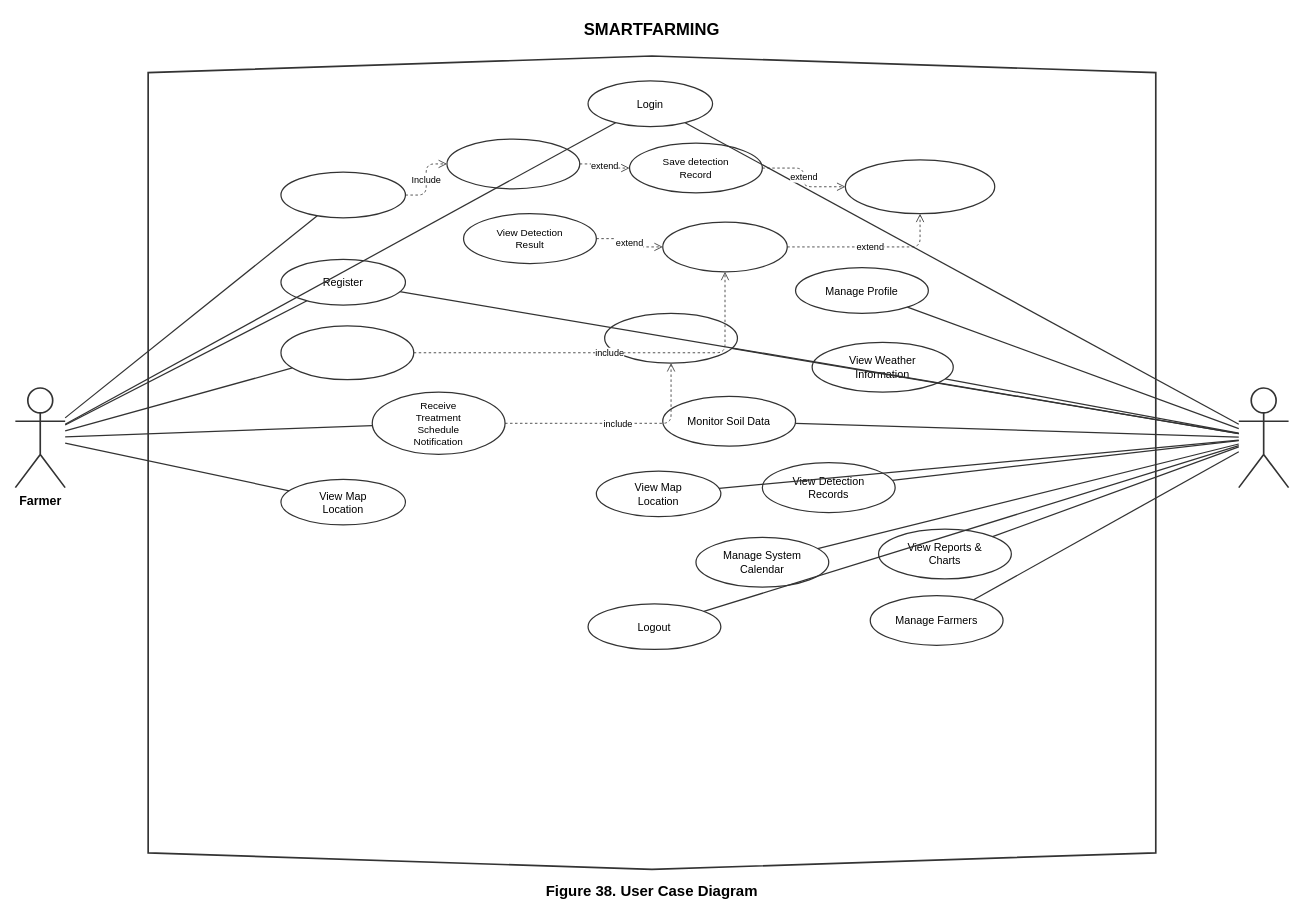
Some shapes in this 1303 by 920 pixel diagram are drawn without their labels. The centre of each missing label's shape, as x and y in pixels:
"Admin" belongs at (x=1263, y=437).
"Manage Teatments" belongs at (x=671, y=337).
"Process Image (TFLite)" belongs at (x=513, y=163).
"Provide Treatment Recommendation" belongs at (x=919, y=186).
"Scan Leaf" belongs at (x=343, y=194).
"Schedule Treatment" belongs at (x=725, y=246).
"View treatment Schedule Calendar" belongs at (x=347, y=352).
